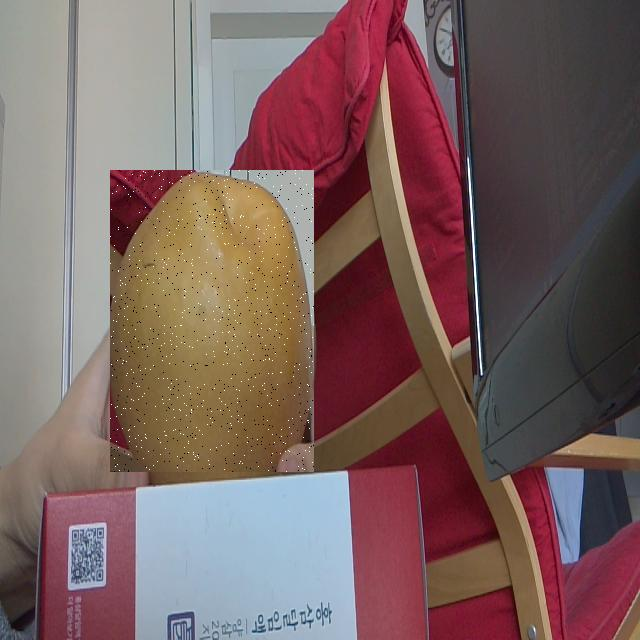pear: (110, 170, 314, 472)
